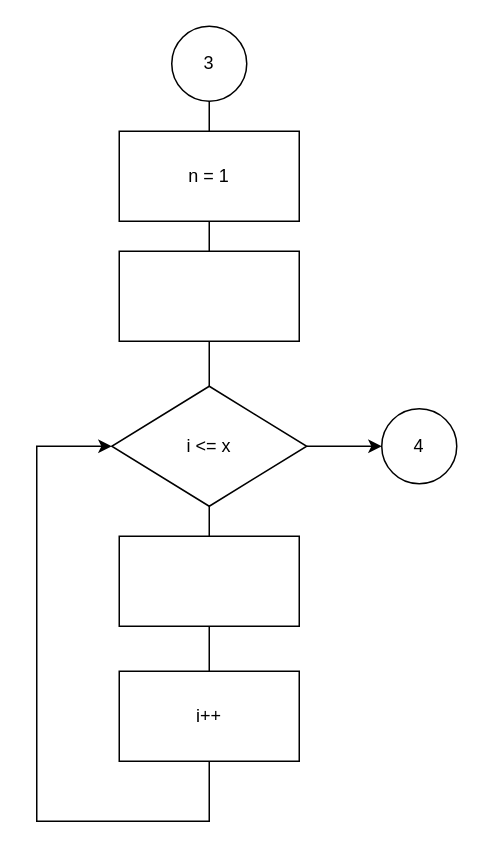
Some shapes in this 483 by 860 pixel diagram are drawn without their labels. The box of each missing label's shape, as (x1, y1, x2, y2) in pixels:
i = 1: (118, 250, 299, 341)
n *= 1/a: (118, 535, 299, 626)
